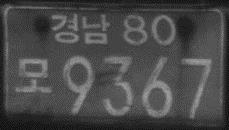0: (150, 13, 177, 47)
3: (102, 53, 134, 117)
6: (141, 54, 174, 118)
7: (178, 56, 213, 120)
8: (122, 11, 147, 45)
9: (60, 54, 95, 115)
경남_O: (48, 11, 111, 47)
모: (16, 54, 54, 94)
